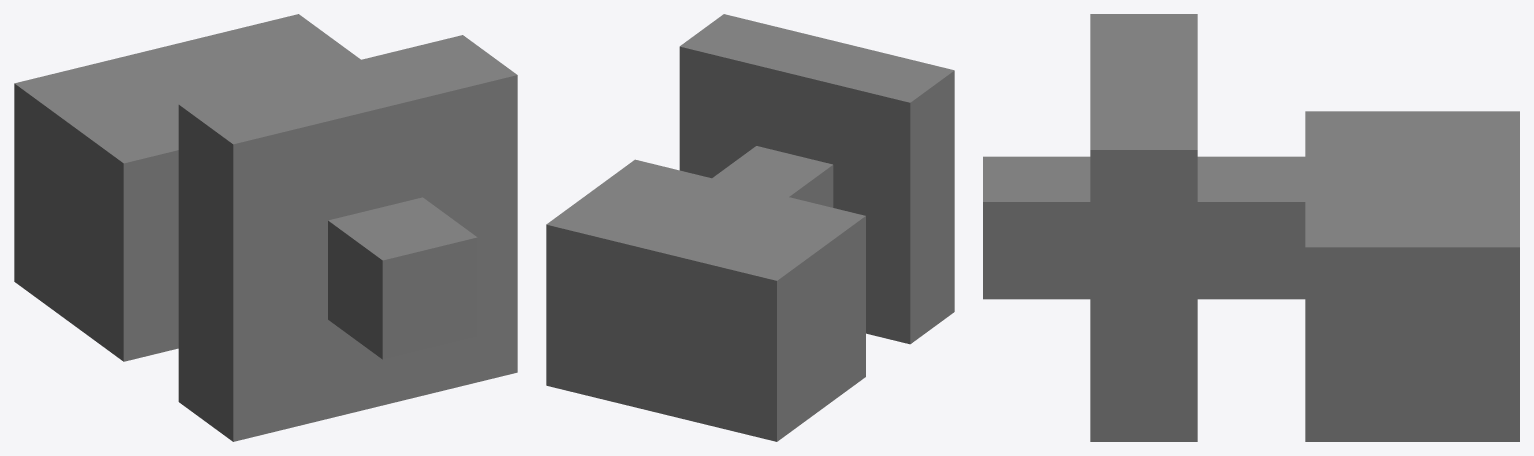
File: alien_tool3.obj
The picture shows the model from 3 angles, left to right: view 1: azimuth 30°, elevation 25°; view 2: azimuth 150°, elevation 25°; view 3: azimuth 270°, elevation 25°; orthographic projection. The views are drawn at different scales.
Bounding box in the file's own units: 3 × 3 × 5.
